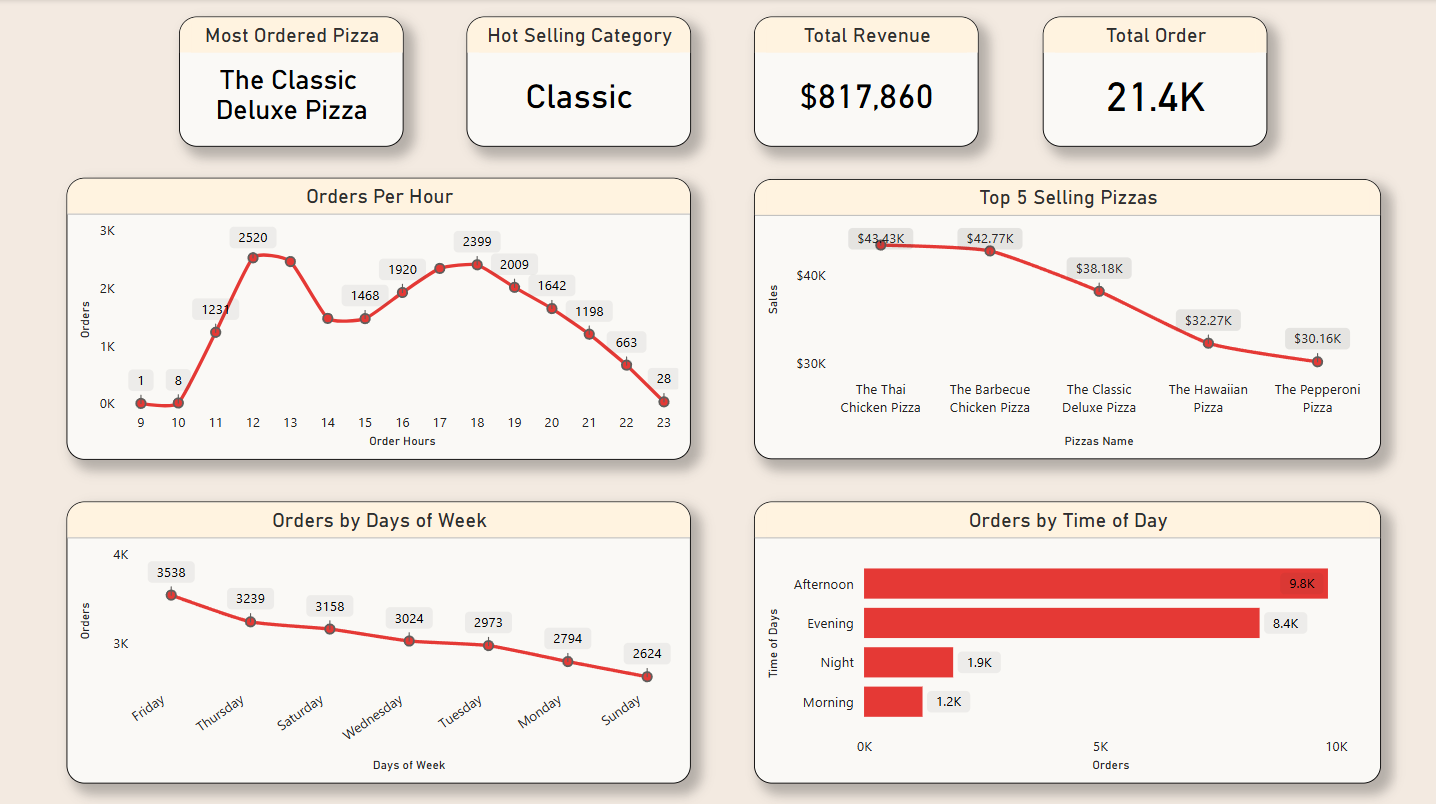

Layout of this report page (visuals, bound fields, positions):
{"tool":"powerbi","page":{"name":"Page 1","canvas":[1280,720],"ordinal":0},"visuals":[{"type":"lineChart","title":"Orders Per Hour ","fields":{"Category":["orders.OrderHour"],"Y":["order_details.OrdersPerHour"]},"box":[60.3,159.3,556.2,250.9],"z":0},{"type":"lineChart","title":"Orders by Days of Week ","fields":{"Y":["order_details.OrdersPerHour"],"Category":["orders.Day Name"]},"box":[60.3,447.6,556.2,250.9],"z":1000},{"type":"card","title":"Total Order","fields":{"Values":["order_details.Orders_Count"]},"box":[929,15.7,200.3,115.8],"z":2000},{"type":"lineChart","title":"Top 5 Selling Pizzas","fields":{"Category":["pizza_types.name"],"Y":["Sum(order_details.Total_Sales)"]},"box":[672,160.5,558.6,249.7],"z":3000},{"type":"card","title":"Most Ordered Pizza","fields":{"Values":["Min(pizza_types.name)"]},"box":[160.5,15.7,200.3,115.8],"z":4000},{"type":"barChart","title":"Orders by Time of Day","fields":{"Y":["order_details.Orders_Count"],"Category":["orders.TimeOfDay"]},"box":[672,447.6,558.6,250.9],"z":5000},{"type":"card","title":"Hot Selling Category","fields":{"Values":["Min(pizza_types.category)"]},"box":[416.2,15.7,200.3,115.8],"z":6000},{"type":"card","title":"Total Revenue","fields":{"Values":["order_details.Revenue"]},"box":[672,15.7,200.3,115.8],"z":7000}]}

Visuals, with their boxes in screenshot pixels (x1, y1, x2, y2), scaled from the page's 1280x720 canvas onto the 1436x804 screenshot:
"Orders Per Hour " lineChart: [x1=68, y1=178, x2=692, y2=458]
"Orders by Days of Week " lineChart: [x1=68, y1=500, x2=692, y2=780]
"Total Order" card: [x1=1042, y1=18, x2=1267, y2=147]
"Top 5 Selling Pizzas" lineChart: [x1=754, y1=179, x2=1381, y2=458]
"Most Ordered Pizza" card: [x1=180, y1=18, x2=405, y2=147]
"Orders by Time of Day" barChart: [x1=754, y1=500, x2=1381, y2=780]
"Hot Selling Category" card: [x1=467, y1=18, x2=692, y2=147]
"Total Revenue" card: [x1=754, y1=18, x2=979, y2=147]
